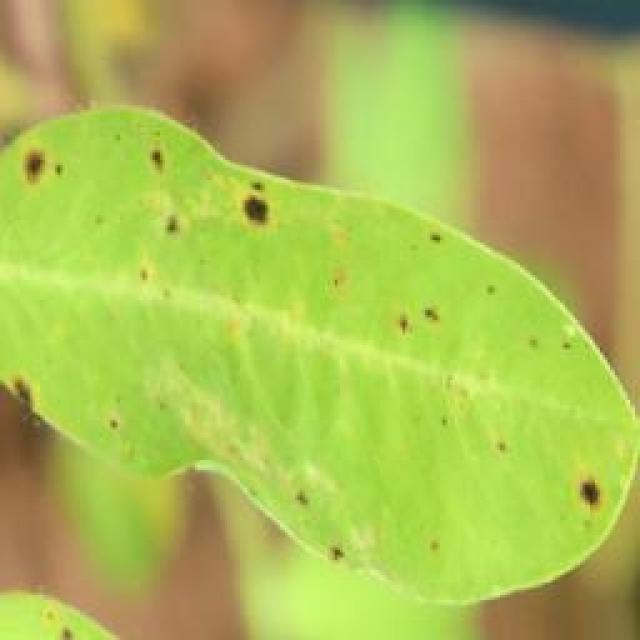Yellowish: (0, 117, 640, 581)
